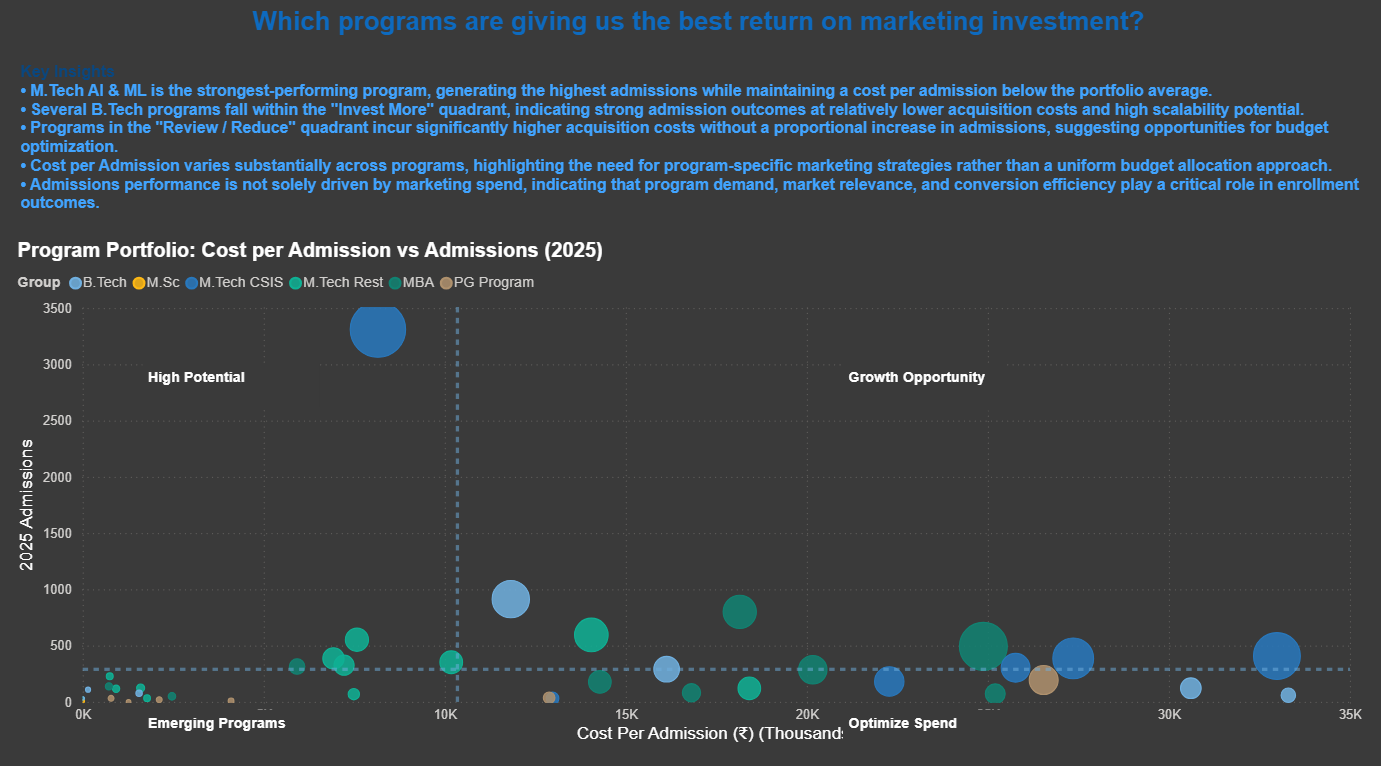

The page's visual inventory and layout, read from the dashboard file:
{"tool":"powerbi","page":{"name":"Marketing Efficiency Analysis","canvas":[1280,720],"ordinal":3},"visuals":[{"type":"textbox","box":[10.6,0,1268.9,81.8],"z":0},{"type":"scatterChart","title":"Program Portfolio: Cost per Admission vs Admissions (2025)","fields":{"X":["Fact_ProgramAnalysis.Cost Per Admission"],"Y":["Fact_ProgramAnalysis.2025 Admissions"],"Series":["Fact_ProgramAnalysis.Group"],"Size":["Sum(Fact_ProgramAnalysis.Spends)"],"Category":["Fact_ProgramAnalysis.Mapped Program"]},"box":[10.6,221.1,1252.2,470.9],"z":1000},{"type":"textbox","box":[131.7,336.2,163.5,40.9],"z":2000},{"type":"textbox","box":[779.8,336.2,149.9,43.9],"z":3000},{"type":"textbox","box":[131.7,655.7,145.4,36.3],"z":4000},{"type":"textbox","box":[779.8,655.7,180.2,36.3],"z":5000},{"type":"textbox","box":[13.6,53,1249.2,168.1],"z":6000}]}

Visuals, with their boxes in screenshot pixels (x1, y1, x2, y2), scaled from the page's 1280x720 canvas onto the 1381x766 screenshot:
textbox: BBox(11, 0, 1380, 87)
"Program Portfolio: Cost per Admission vs Admissions (2025)" scatterChart: BBox(11, 235, 1362, 736)
textbox: BBox(142, 358, 318, 401)
textbox: BBox(841, 358, 1003, 404)
textbox: BBox(142, 698, 299, 736)
textbox: BBox(841, 698, 1036, 736)
textbox: BBox(15, 56, 1362, 235)
